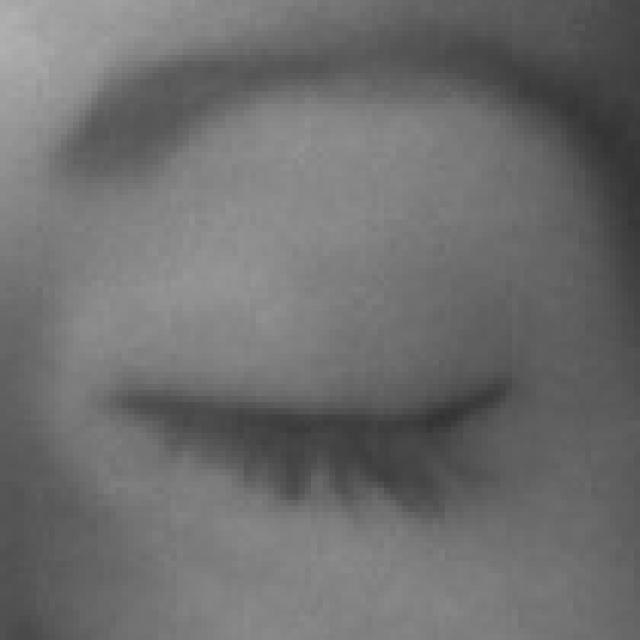Eyeclosed: (106, 244, 534, 622)
